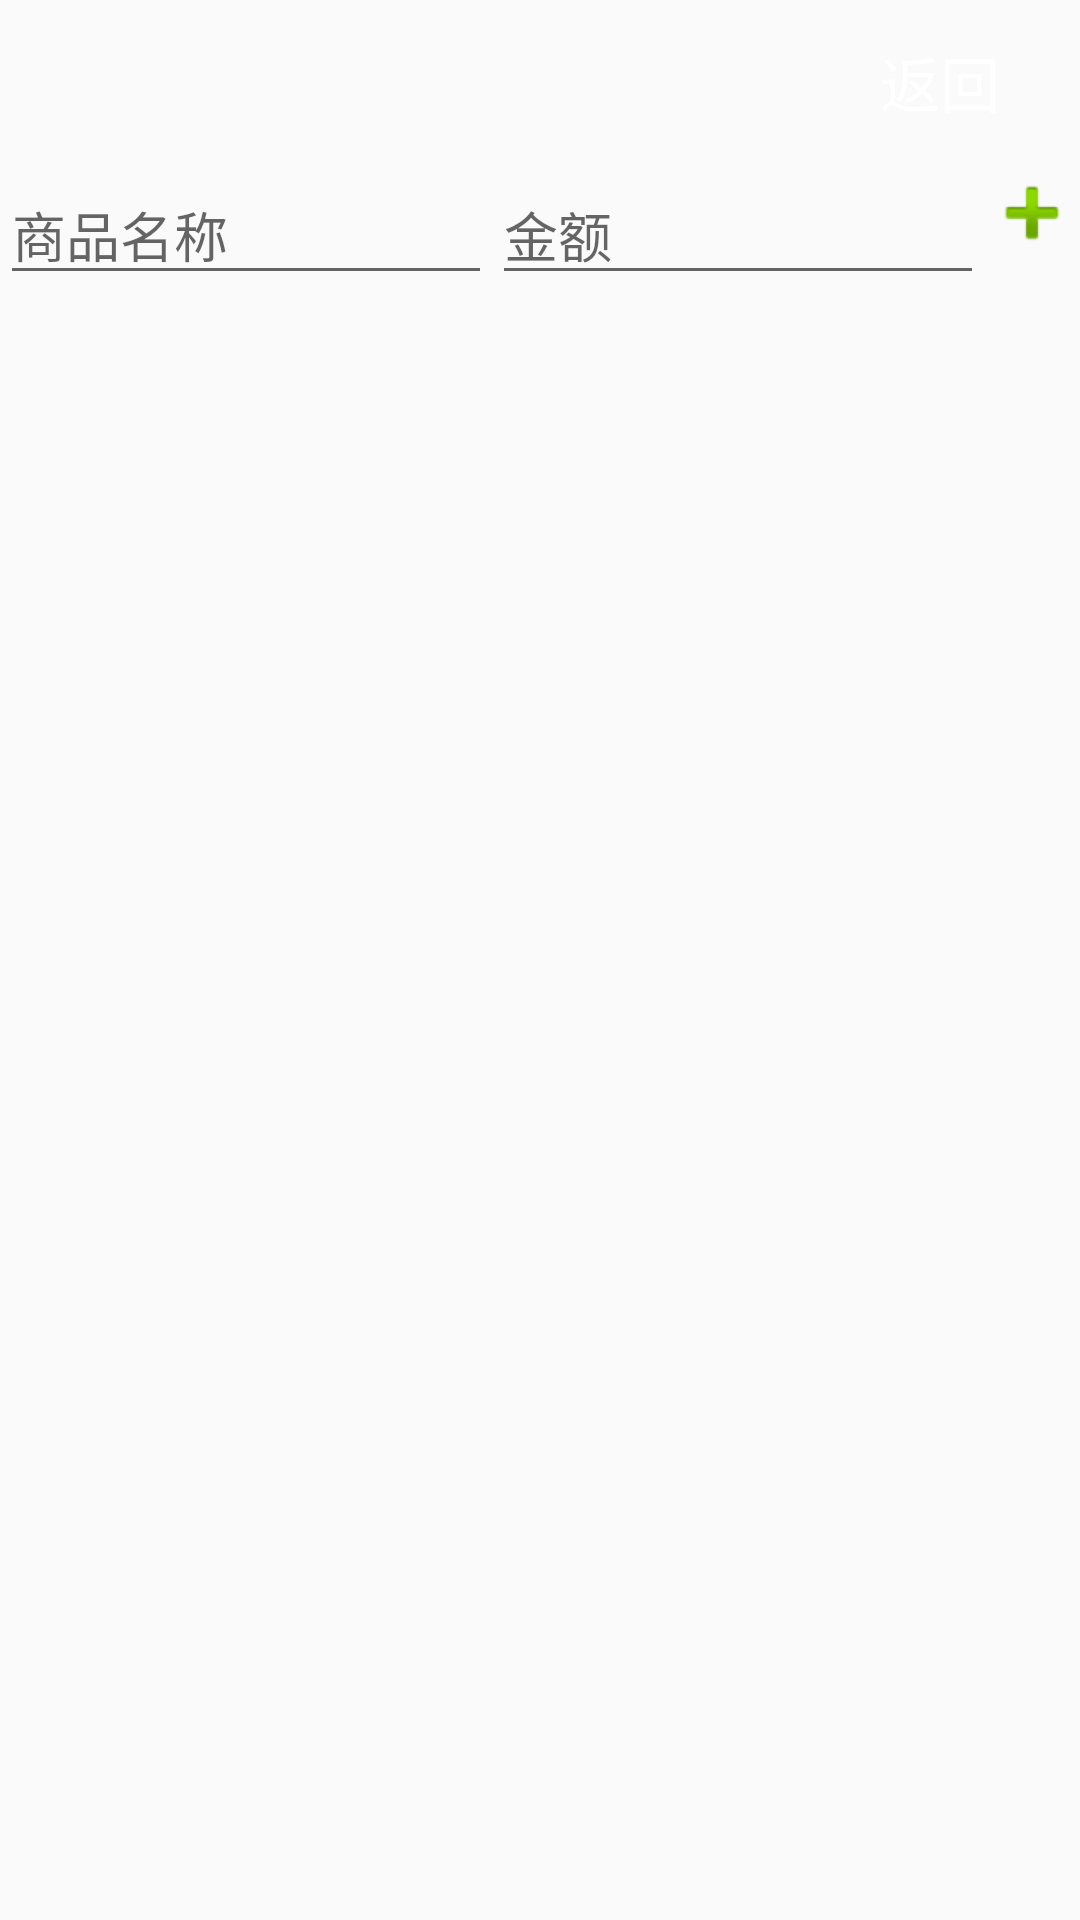

Icon bounding boxes for this 1080px×1920px phone screenshot, format (x1, y1, x2, y2):
add: (1005, 186, 1059, 240)
